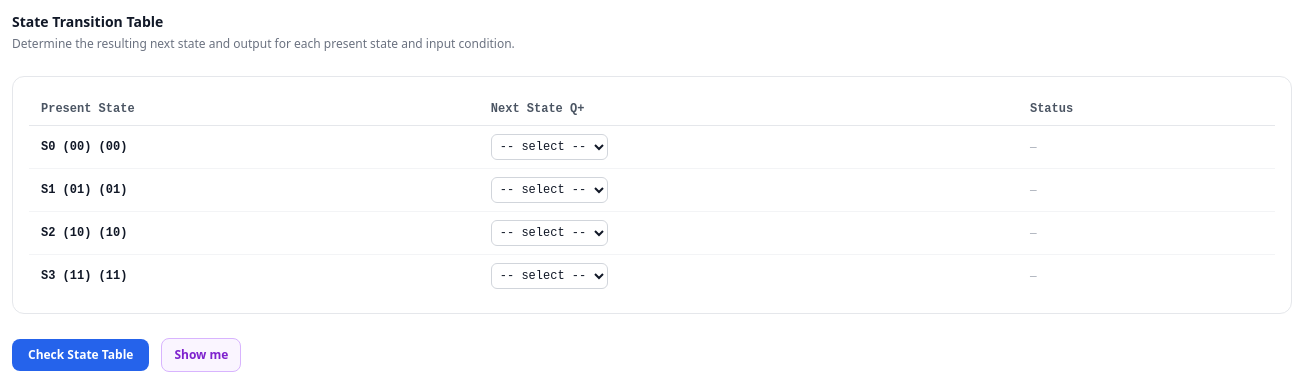
Test: StateTableEditor component › marks step as assisted and unlocks progression when Show me is clicked
The image size is (1304, 389).
Click the button "Show me" at [201, 355], box [161,338,241,372]
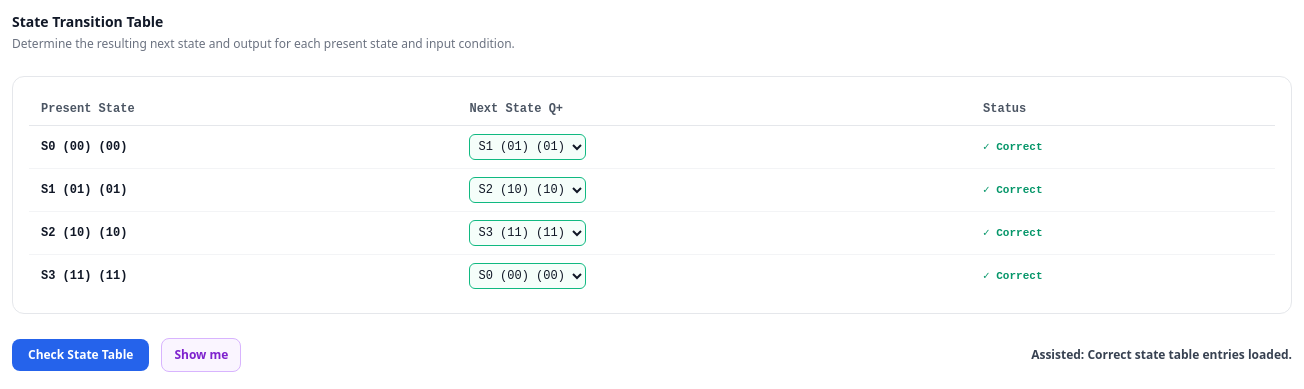
Now the text "Assisted: Correct state table entries loaded." is shown, box [1031,347,1292,363]
